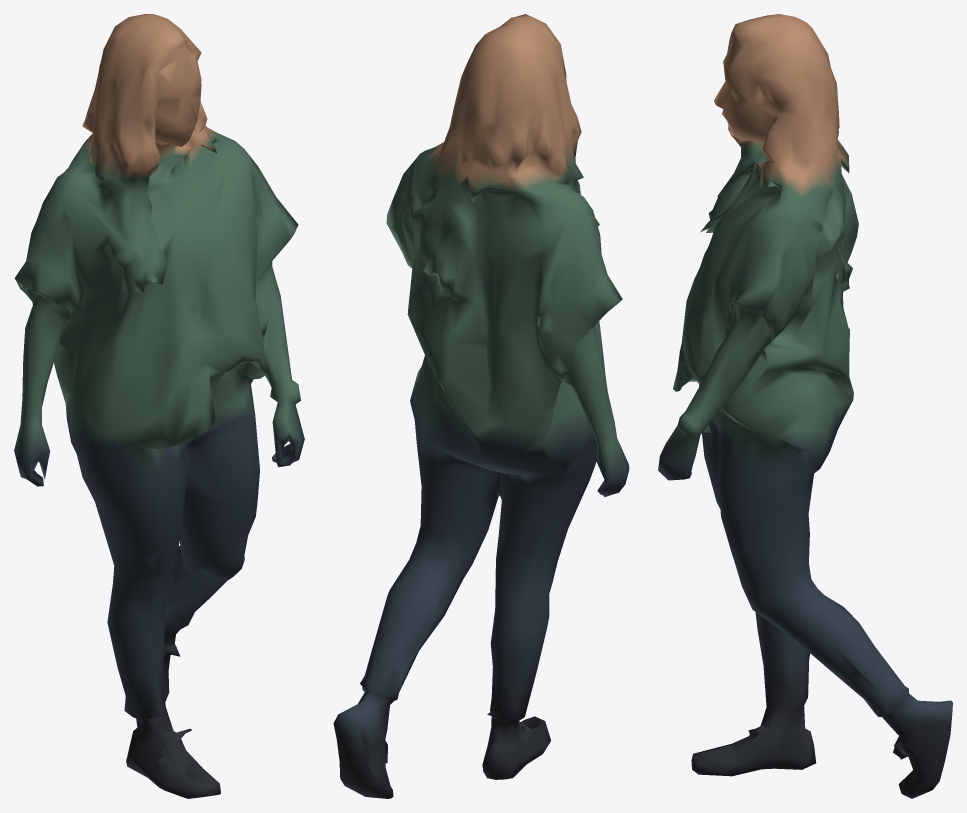
File: people_typ10_stand.glb
The picture shows the model from 3 angles, left to right: view 1: azimuth 30°, elevation 25°; view 2: azimuth 150°, elevation 25°; view 3: azimuth 270°, elevation 25°; orthographic projection.
Visible parts, largest first — view 1: people_typ10_stand-mesh; view 2: people_typ10_stand-mesh; view 3: people_typ10_stand-mesh.
Boxes of the visible parts, x1,y1,x2,y2 form: people_typ10_stand-mesh: (14, 14, 304, 798); people_typ10_stand-mesh: (333, 14, 629, 798); people_typ10_stand-mesh: (658, 14, 952, 798).
Bounding box in the file's own units: 0.6369 × 1.76 × 0.6329.
